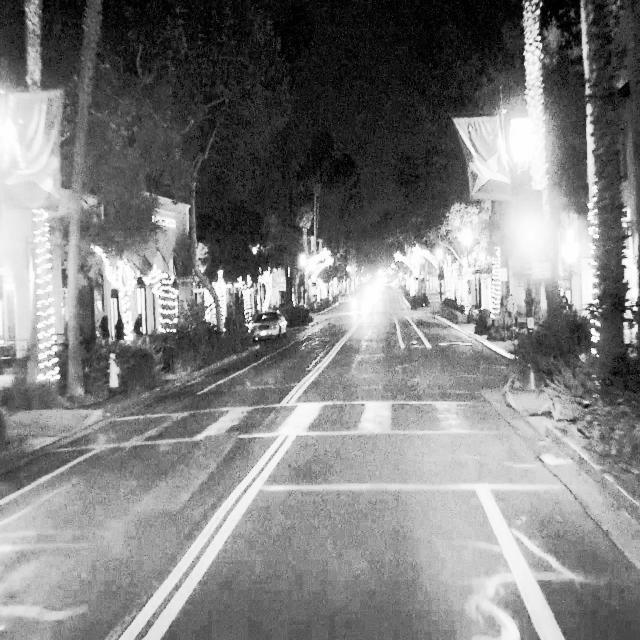Light: (516, 211, 546, 271), (510, 118, 536, 163)
Tree: (575, 2, 636, 436), (21, 0, 61, 395)
